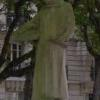Statue: (26, 5, 88, 96)
